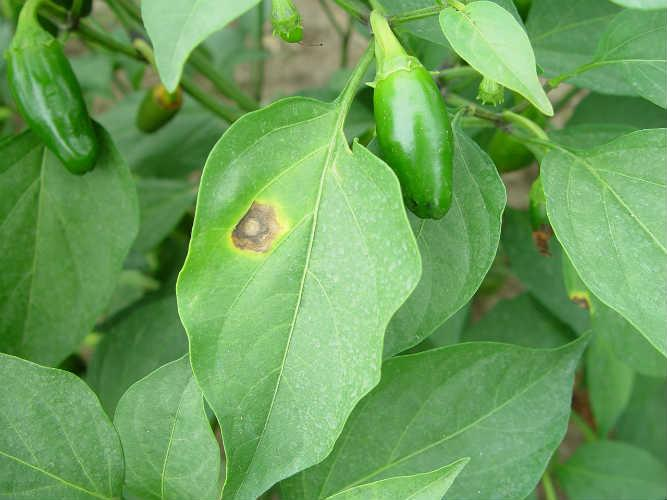Bell_pepper leaf: (179, 97, 410, 500)
